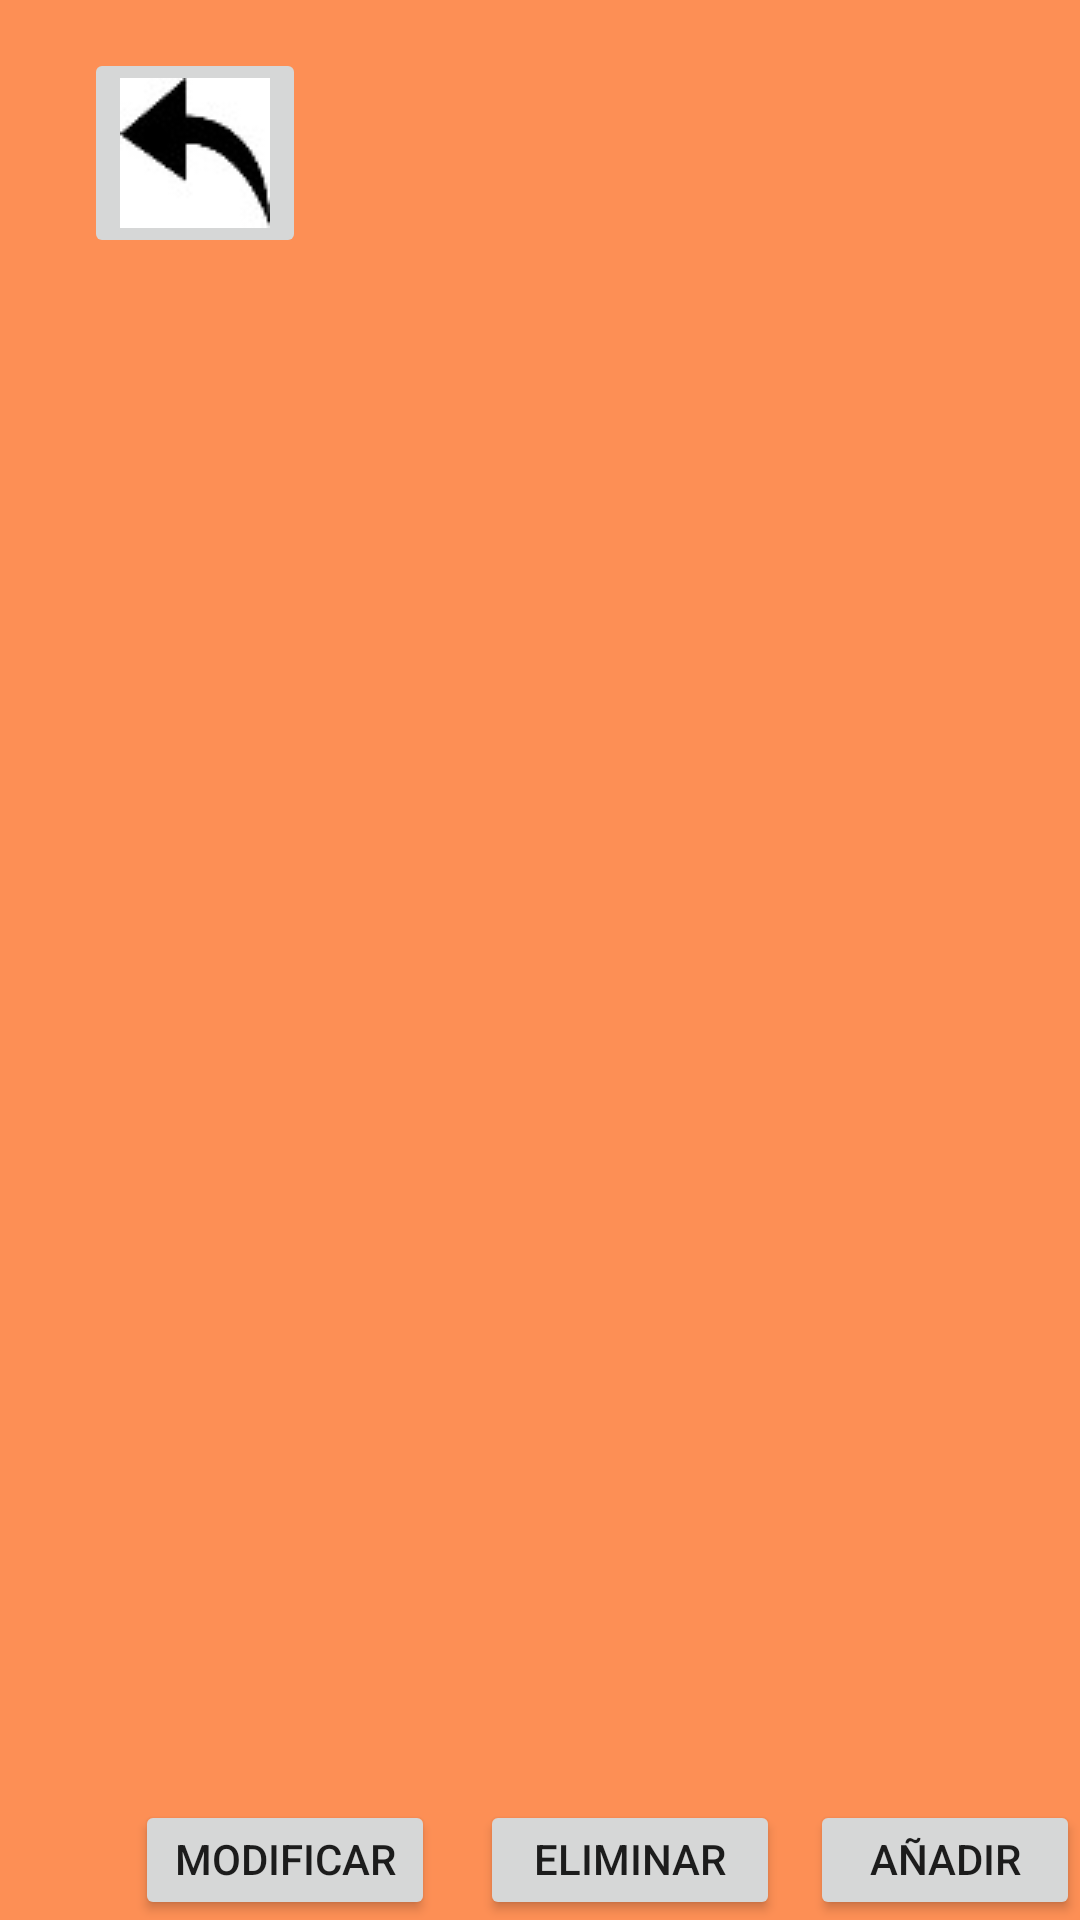

Icon bounding boxes for this 1080px x 1920px phone screenshot, format region(x1, y1, x2, y2):
volver: region(96, 66, 294, 240)
